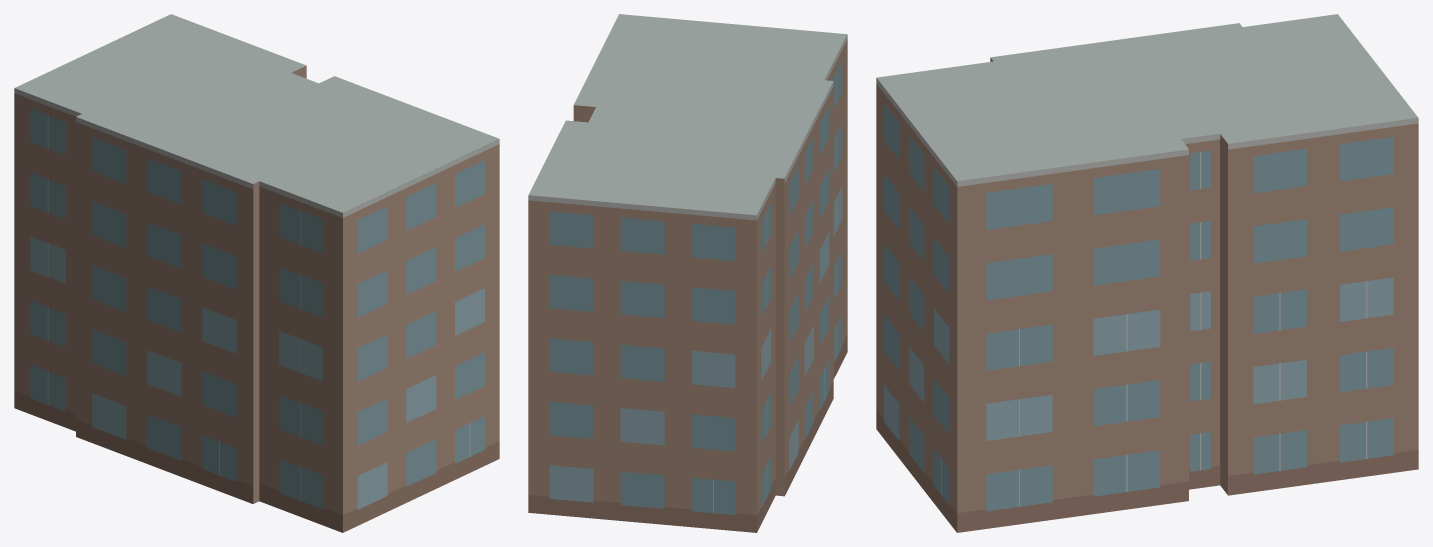
The model's file is survey-upis-33002163.glb.
3 views of the same model, side by side, from view 1: azimuth 30°, elevation 25°; view 2: azimuth 150°, elevation 25°; view 3: azimuth 270°, elevation 25° (orthographic). The views are drawn at different scales.
Parts seen in each view (by area): view 1: survey-upis-33002163.tmp; view 2: survey-upis-33002163.tmp; view 3: survey-upis-33002163.tmp.
Part boxes in pixels (<box>): survey-upis-33002163.tmp: <box>14,14,499,532</box>; survey-upis-33002163.tmp: <box>528,14,847,532</box>; survey-upis-33002163.tmp: <box>876,14,1418,532</box>.
Size of the model in its own units: 15.47 by 15.15 by 21.18.
